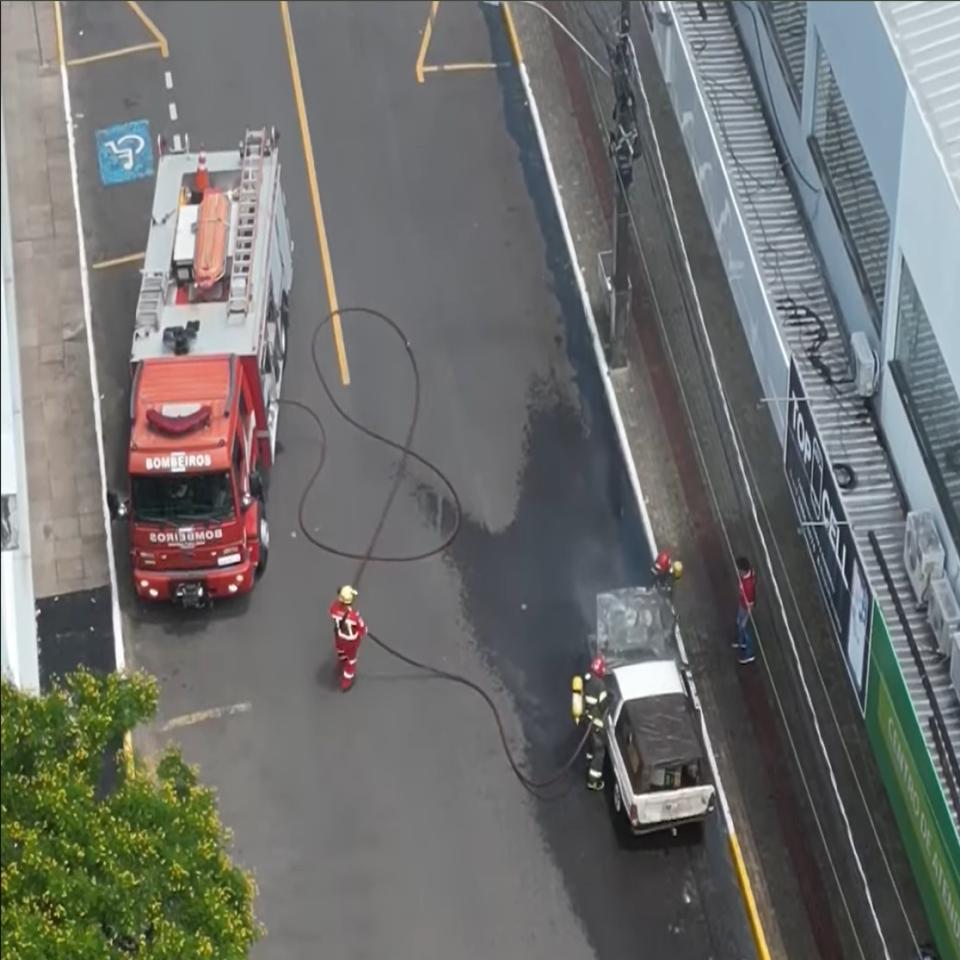viatura: (104, 130, 300, 616)
